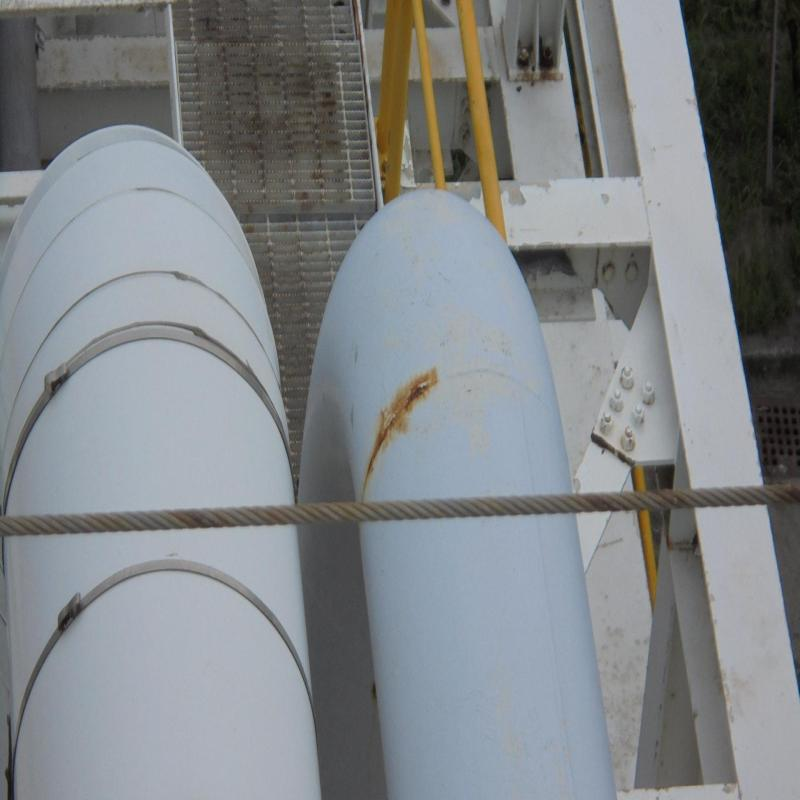corrosion: (358, 367, 440, 430)
